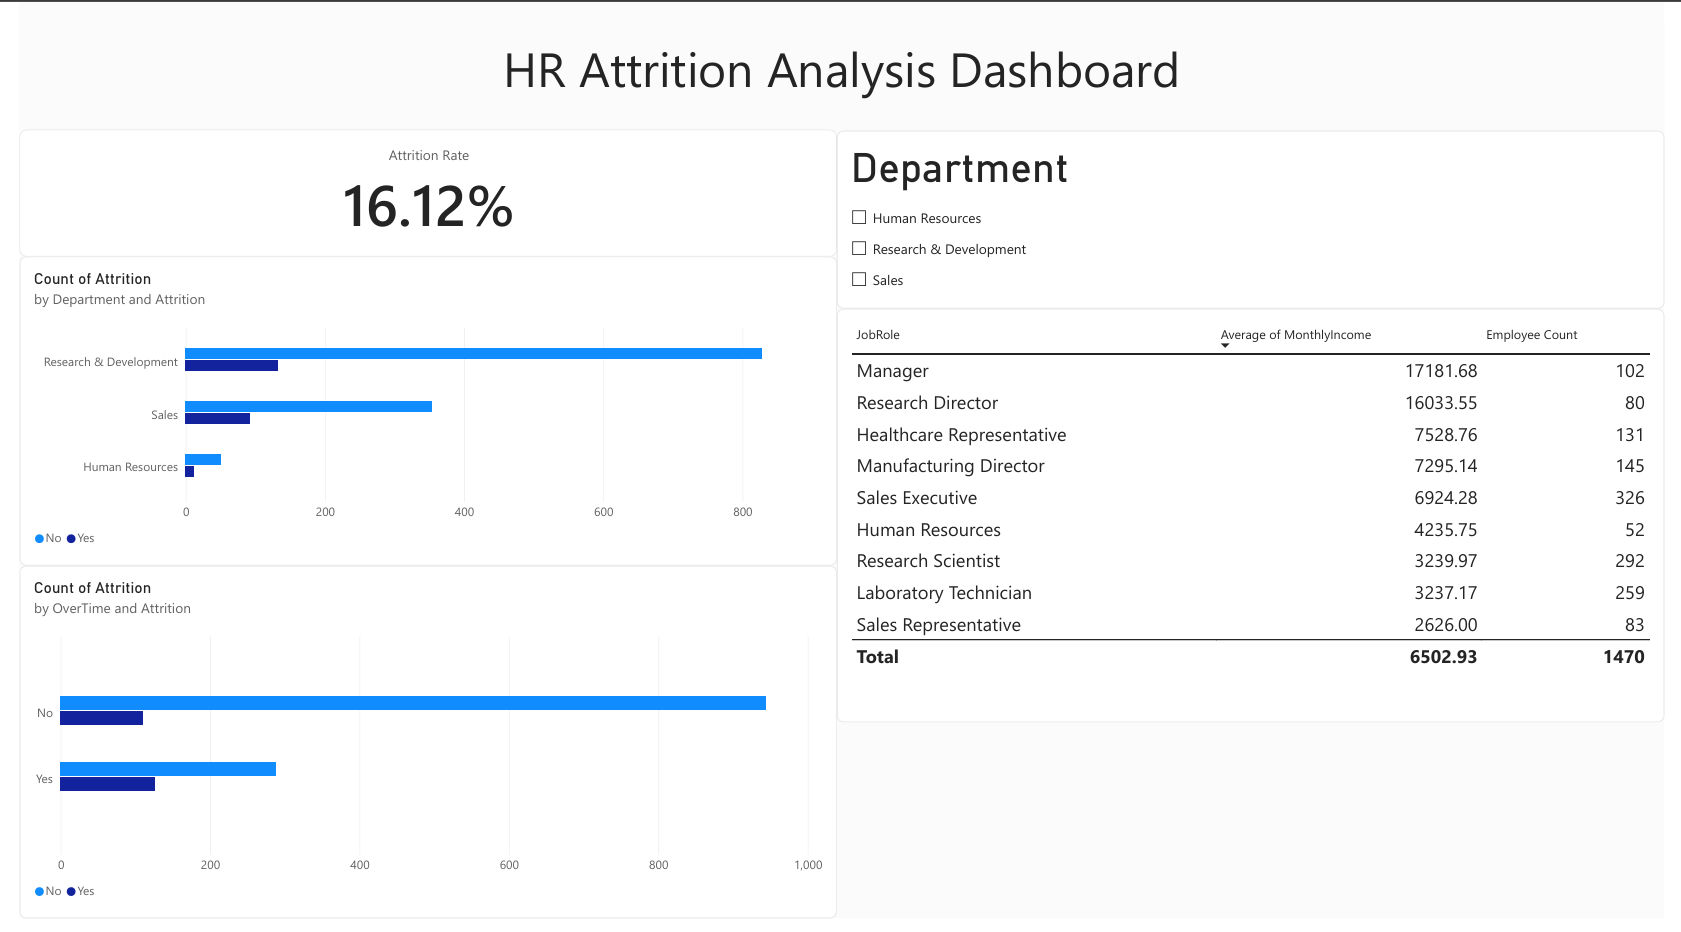

This screenshot's page, from the dashboard's own definition file:
{"tool":"powerbi","page":{"name":"Page 1","canvas":[1920,1080],"ordinal":0},"visuals":[{"type":"cardVisual","fields":{"Data":["HR-Employee-Attrition.Attrition Rate"]},"box":[0,158.7,954.1,148.3],"z":0},{"type":"clusteredBarChart","fields":{"Category":["HR-Employee-Attrition.Department"],"Series":["HR-Employee-Attrition.Attrition"],"Y":["CountNonNull(HR-Employee-Attrition.Attrition)"]},"box":[0,307,954.1,361],"z":1},{"type":"clusteredBarChart","fields":{"Category":["HR-Employee-Attrition.OverTime"],"Series":["HR-Employee-Attrition.Attrition"],"Y":["CountNonNull(HR-Employee-Attrition.Attrition)"]},"box":[0,668,954.1,411.6],"z":2},{"type":"tableEx","fields":{"Values":["HR-Employee-Attrition.JobRole","Avg(HR-Employee-Attrition.MonthlyIncome)","HR-Employee-Attrition.Attrition"]},"box":[954.1,368,966.3,483.1],"z":3},{"type":"listSlicer","fields":{"Values":["HR-Employee-Attrition.Department"]},"box":[954.1,160.5,966.3,207.6],"z":5},{"type":"textbox","box":[0,48.8,1920.4,82],"z":6}]}

Visuals, with their boxes in screenshot pixels (x1, y1, x2, y2), scaled from the page's 1920x1080 canvas onto the 1681x932 screenshot:
cardVisual - HR-Employee-Attrition.Attrition Rate: {"x1": 0, "y1": 137, "x2": 835, "y2": 265}
clusteredBarChart - HR-Employee-Attrition.Department x HR-Employee-Attrition.Attrition: {"x1": 0, "y1": 265, "x2": 835, "y2": 576}
clusteredBarChart - HR-Employee-Attrition.OverTime x HR-Employee-Attrition.Attrition: {"x1": 0, "y1": 576, "x2": 835, "y2": 931}
tableEx - HR-Employee-Attrition.JobRole x Avg(HR-Employee-Attrition.MonthlyIncome): {"x1": 835, "y1": 318, "x2": 1680, "y2": 734}
listSlicer - HR-Employee-Attrition.Department: {"x1": 835, "y1": 139, "x2": 1680, "y2": 318}
textbox: {"x1": 0, "y1": 42, "x2": 1680, "y2": 113}
